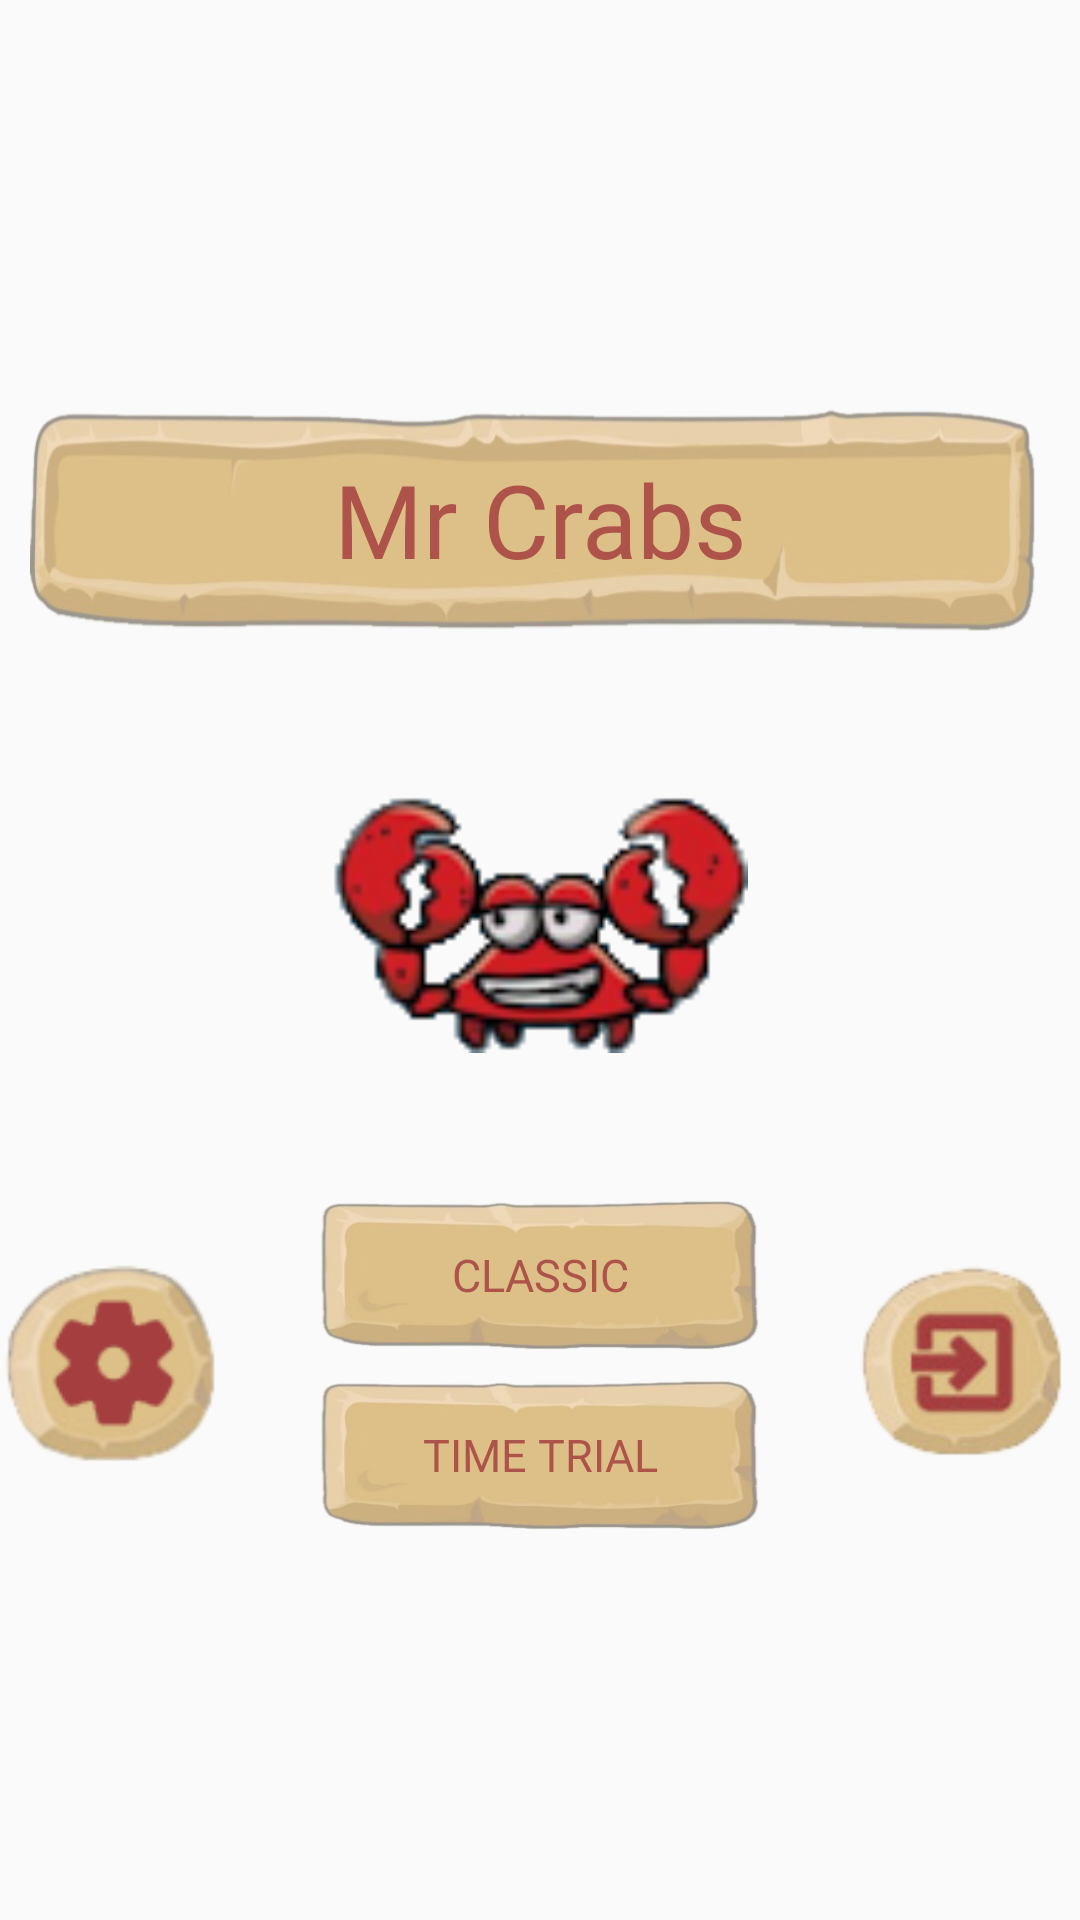

Named icons in this screenshot (1080w x 1920h) and their bounding boxes, (x1, y1, x2, y2):
exit: (863, 1268, 1061, 1455)
settings: (7, 1266, 214, 1461)
